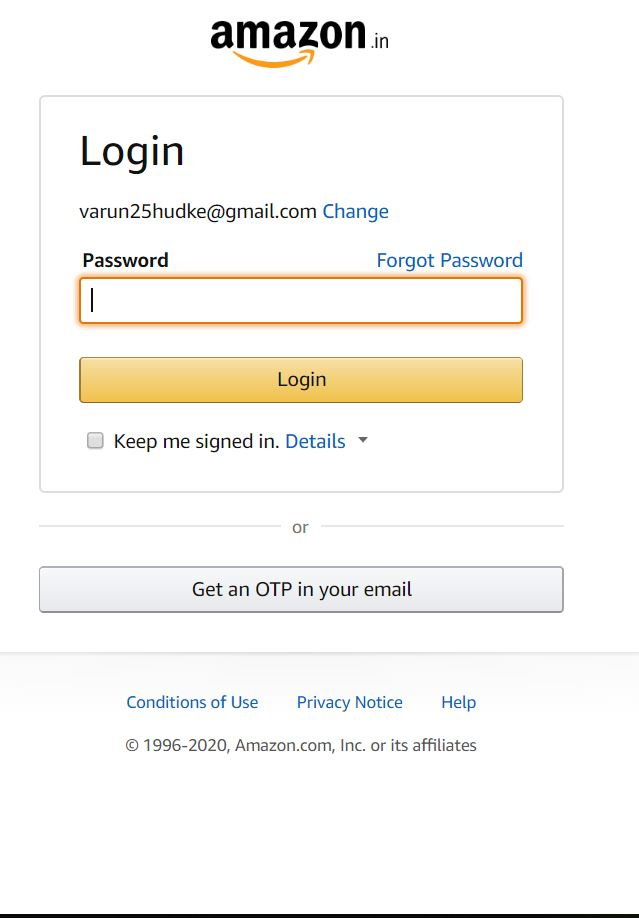button: (34, 560, 572, 620), (66, 354, 531, 412)
textbox: (71, 270, 533, 332)
